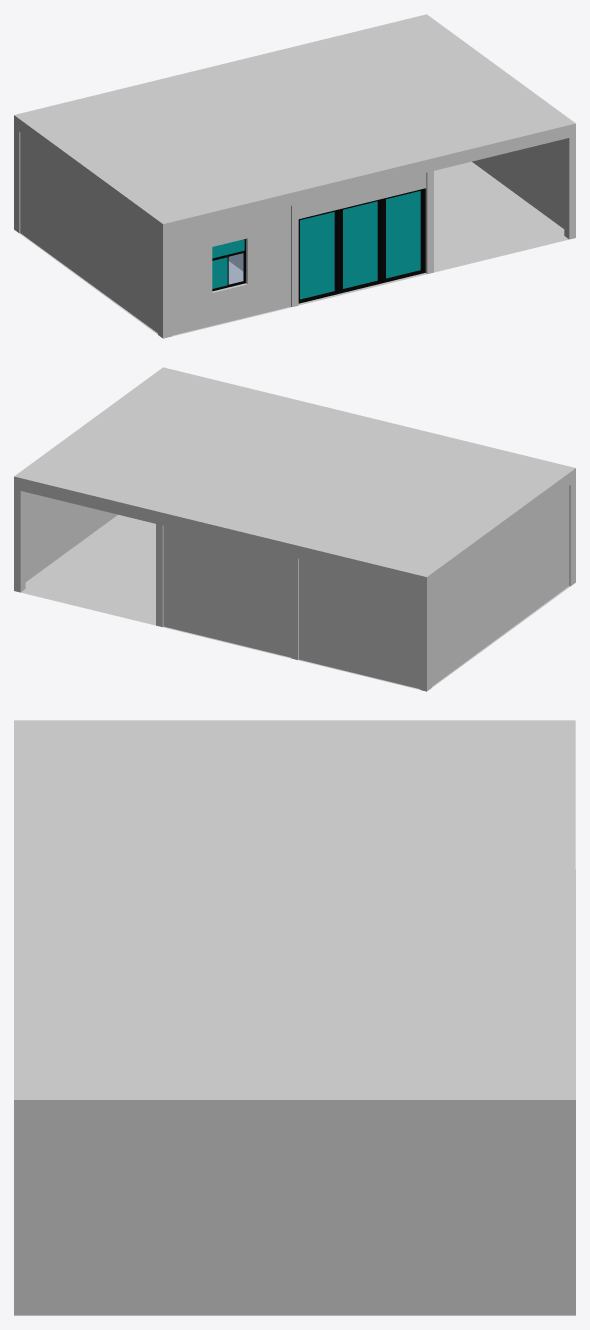
Rendered from kape_tagpuan.glb.
3 views of the same model, one above another, from view 1: azimuth 30°, elevation 25°; view 2: azimuth 150°, elevation 25°; view 3: azimuth 270°, elevation 25° (orthographic). The views are drawn at different scales.
Parts seen in each view (by area): view 1: Geom3D (×6), Geom3D_ (×6); view 2: Geom3D; view 3: Geom3D.
Boxes of the visible parts, <box> form: Geom3D (×6): <box>14,14,575,338</box>; Geom3D_ (×6): <box>298,188,425,303</box>; Geom3D: <box>14,367,575,691</box>; Geom3D: <box>14,720,575,1315</box>.
Bounding box in the file's own units: 34.5 × 9.14 × 21.59.
